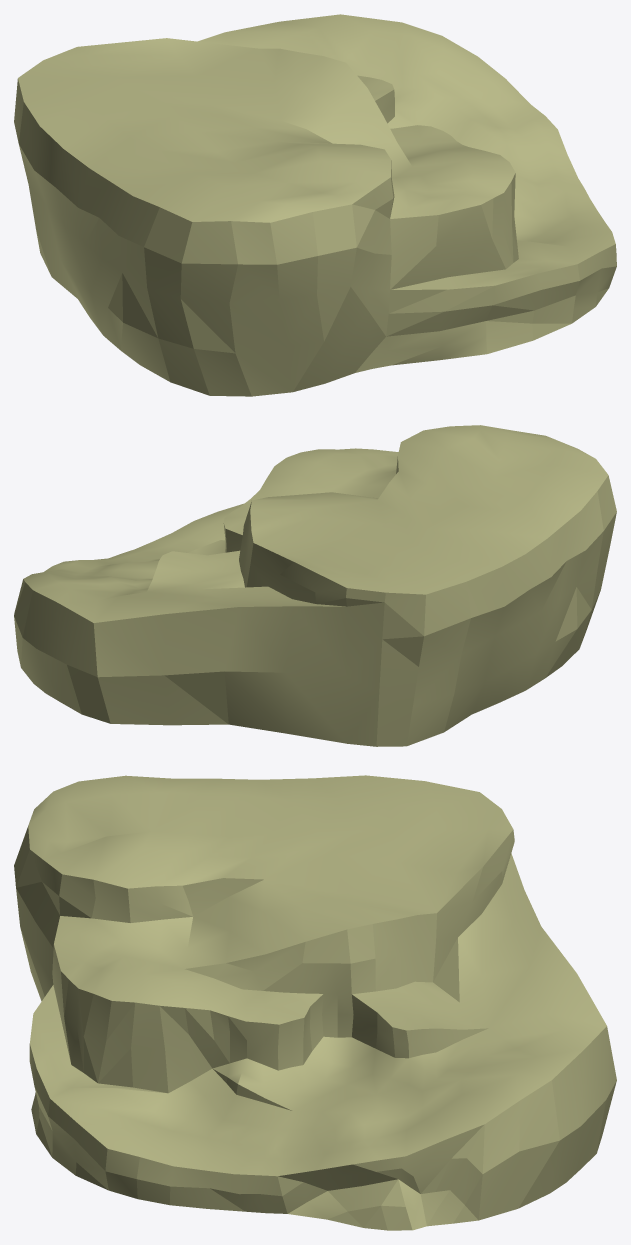
Rendered from LargeIsland.fbx.
The picture shows the model from 3 angles, top to bottom: view 1: azimuth 30°, elevation 25°; view 2: azimuth 150°, elevation 25°; view 3: azimuth 270°, elevation 25°; orthographic projection. The views are drawn at different scales.
Visible parts, largest first — view 1: mff_island_large; view 2: mff_island_large; view 3: mff_island_large.
Part boxes in pixels (x1,y1,x2,y2): mff_island_large: (14, 14, 616, 396); mff_island_large: (14, 425, 616, 746); mff_island_large: (14, 775, 616, 1230).
Bounding box in the file's own units: 3334 × 1185 × 3129.
